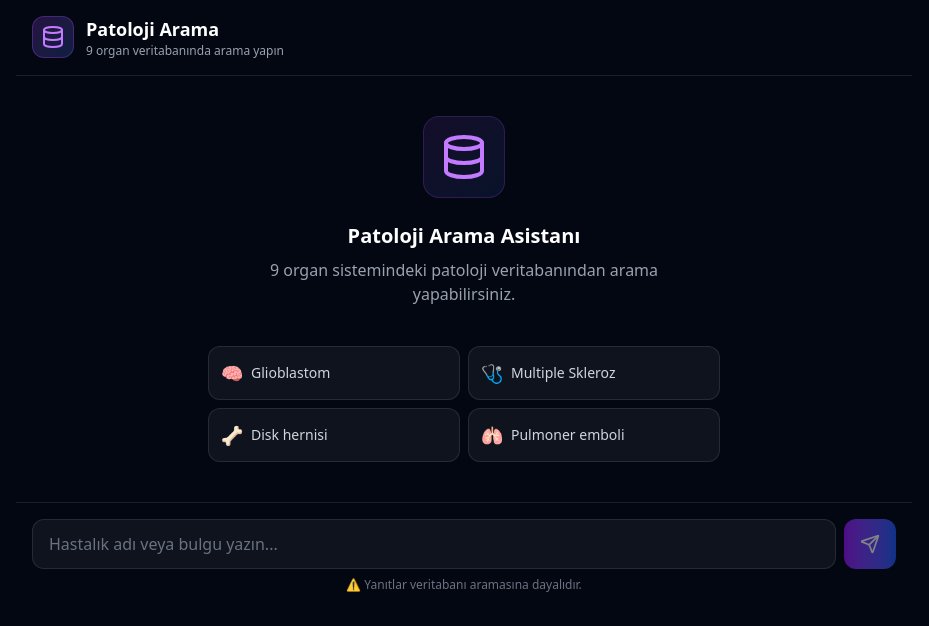
Scenario: AIAssistant › should show error message on API failure
Type "test" into the field with placeholder "Hastalık adı veya bulgu yazın...".
click(434, 544); type("test")  # box [32, 519, 836, 569]
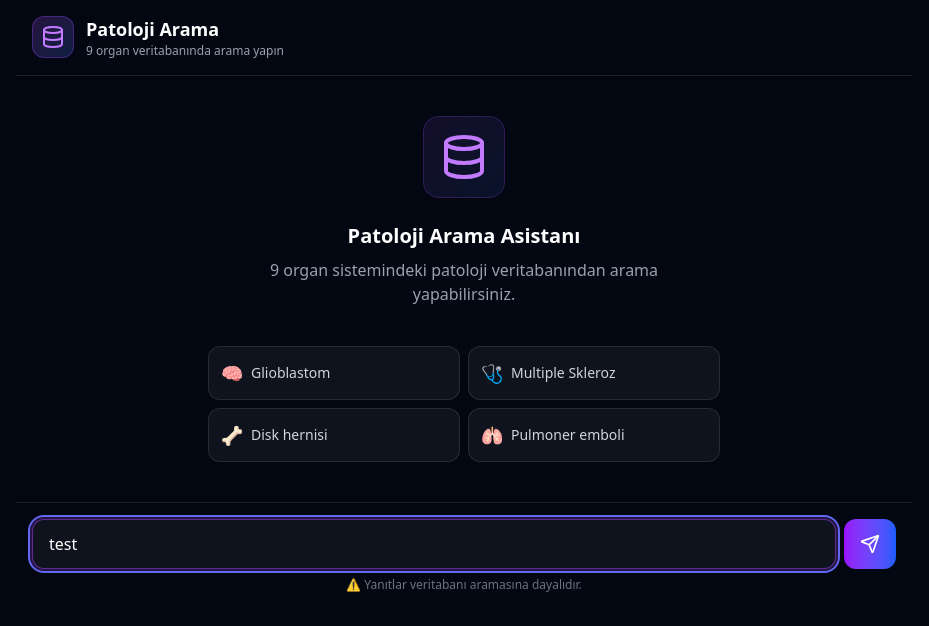
Submit the form with id "chat-form", box [16, 502, 912, 609]
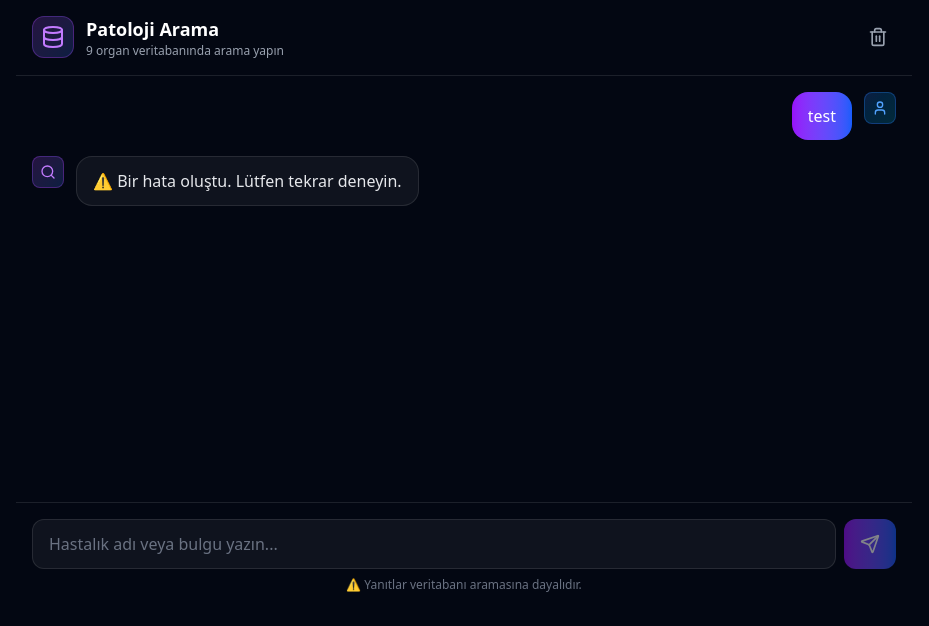
Now the text "⚠️ Bir hata oluştu. Lütfen tekrar deneyin." is shown, box [93, 169, 402, 193]
